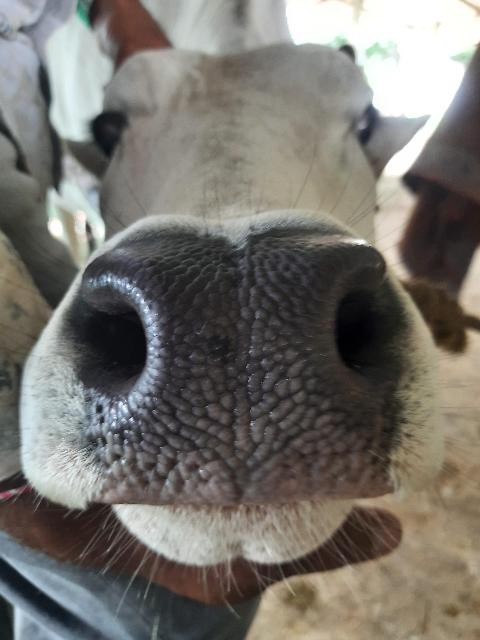Muzzle: (92, 248, 392, 494)
